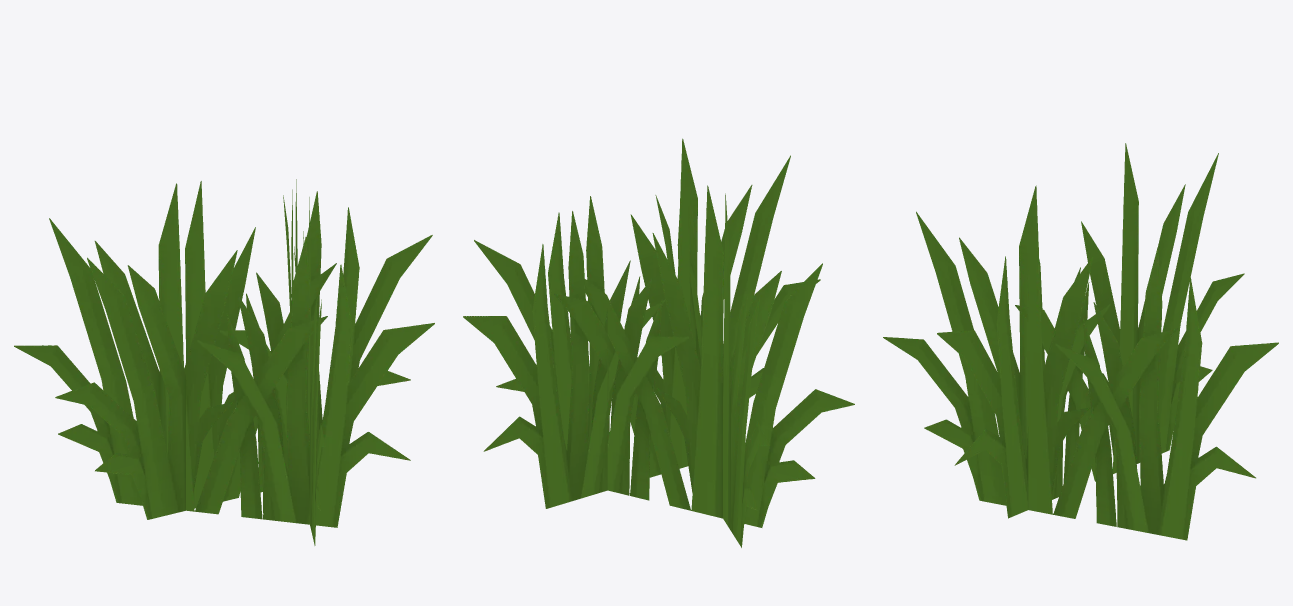
The model's file is mk_grass_tall.glb.
3 renders of one model, left to right at view 1: azimuth 30°, elevation 25°; view 2: azimuth 150°, elevation 25°; view 3: azimuth 270°, elevation 25°, orthographic.
Visible parts, largest first — view 1: SM_Env_Grass_Tall_Clump_01_LOD0; view 2: SM_Env_Grass_Tall_Clump_01_LOD0; view 3: SM_Env_Grass_Tall_Clump_01_LOD0.
Part boxes in pixels (x1,y1,x2,y2): SM_Env_Grass_Tall_Clump_01_LOD0: [14, 179, 434, 545]; SM_Env_Grass_Tall_Clump_01_LOD0: [463, 138, 854, 547]; SM_Env_Grass_Tall_Clump_01_LOD0: [883, 143, 1278, 540].
Bounding box in the file's own units: 1.6 × 1.6 × 1.46.
Materials: 1 (1 with a texture image).
